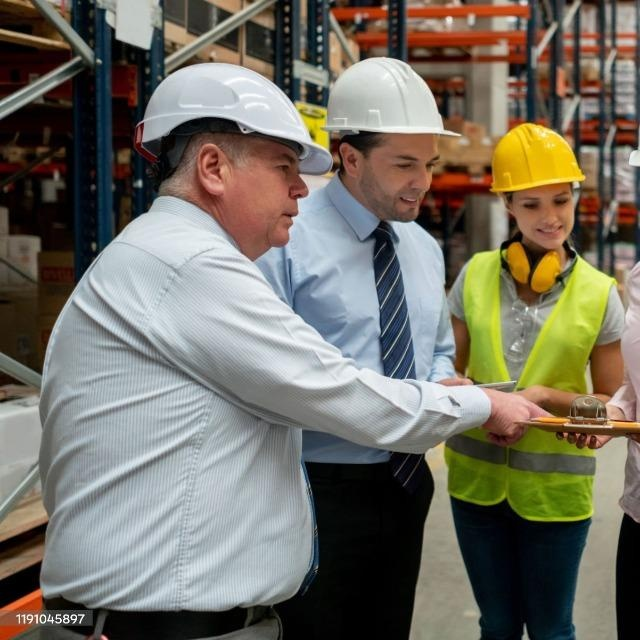Con_Casco: (135, 67, 331, 261), (324, 52, 460, 218), (490, 121, 587, 249)
Con_Chaleco: (460, 247, 611, 519)
Sin_Chaleco: (42, 227, 316, 606)
